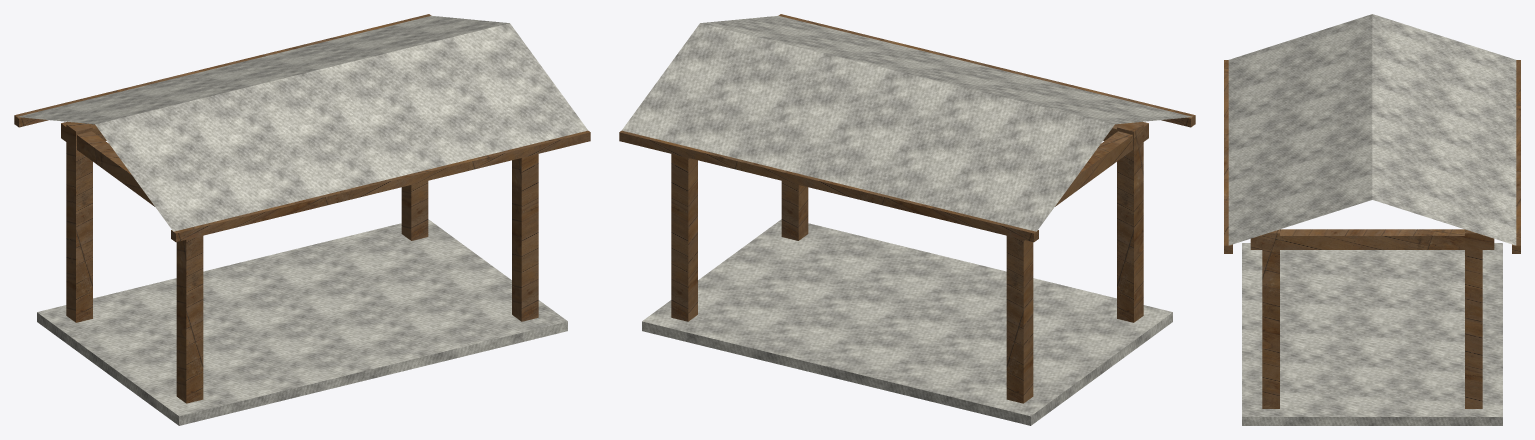
Rendered from riverside-shelter.obj.
3 views of the same model, side by side, from view 1: azimuth 30°, elevation 25°; view 2: azimuth 150°, elevation 25°; view 3: azimuth 270°, elevation 25° (orthographic). The views are drawn at different scales.
Size of the model in its own units: 4.95 by 2.88 by 3.34.
Materials: 3 (3 with a texture image).
